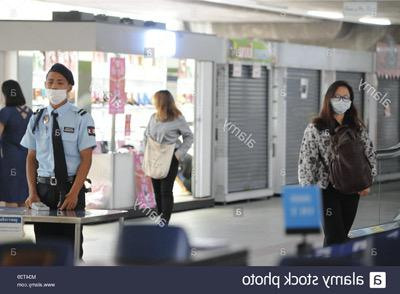mask_weared_incorrect: (44, 77, 69, 106)
with_mask: (328, 94, 352, 116)
